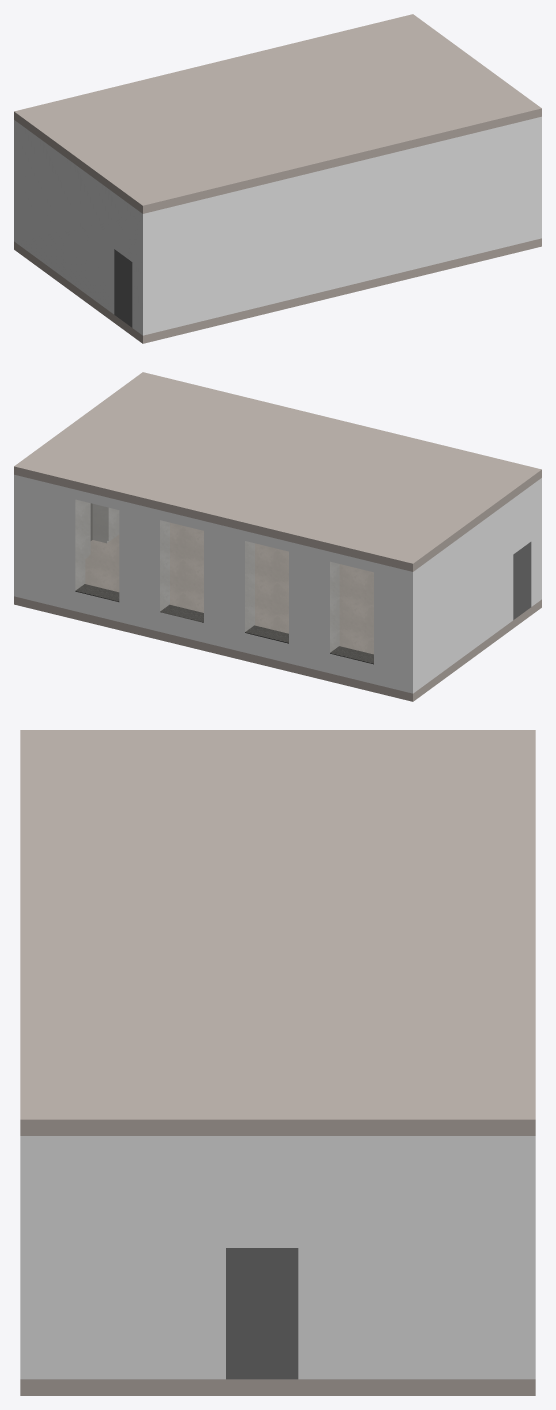
File: Satellit_new-optimized.glb
3 renders of one model, top to bottom at view 1: azimuth 30°, elevation 25°; view 2: azimuth 150°, elevation 25°; view 3: azimuth 270°, elevation 25°, orthographic. The views are drawn at different scales.
Visible parts, largest first — view 1: Grundriss.002, Decke.001, Boden.001, Tür1.001; view 2: Decke.001, Grundriss.002, Fenster.001, Boden.001, Fensterbank, Tür1.001; view 3: Decke.001, Grundriss.002, Tür2.001, Boden.001.
Boxes of the visible parts, bbox=[...] form: Grundriss.002: bbox=[14, 116, 541, 335]; Decke.001: bbox=[14, 14, 541, 213]; Boden.001: bbox=[14, 238, 541, 343]; Tür1.001: bbox=[114, 249, 132, 327]; Decke.001: bbox=[14, 372, 541, 571]; Grundriss.002: bbox=[14, 474, 541, 693]; Fenster.001: bbox=[75, 499, 373, 663]; Boden.001: bbox=[14, 522, 541, 701]; Fensterbank: bbox=[75, 584, 373, 664]; Tür1.001: bbox=[513, 542, 531, 619]; Decke.001: bbox=[20, 730, 535, 1135]; Grundriss.002: bbox=[20, 1136, 535, 1379]; Tür2.001: bbox=[226, 1248, 298, 1379]; Boden.001: bbox=[20, 1379, 535, 1395].
Size of the model in its own units: 12.7 by 4.2 by 7.1.
6 materials, 2 textured.
